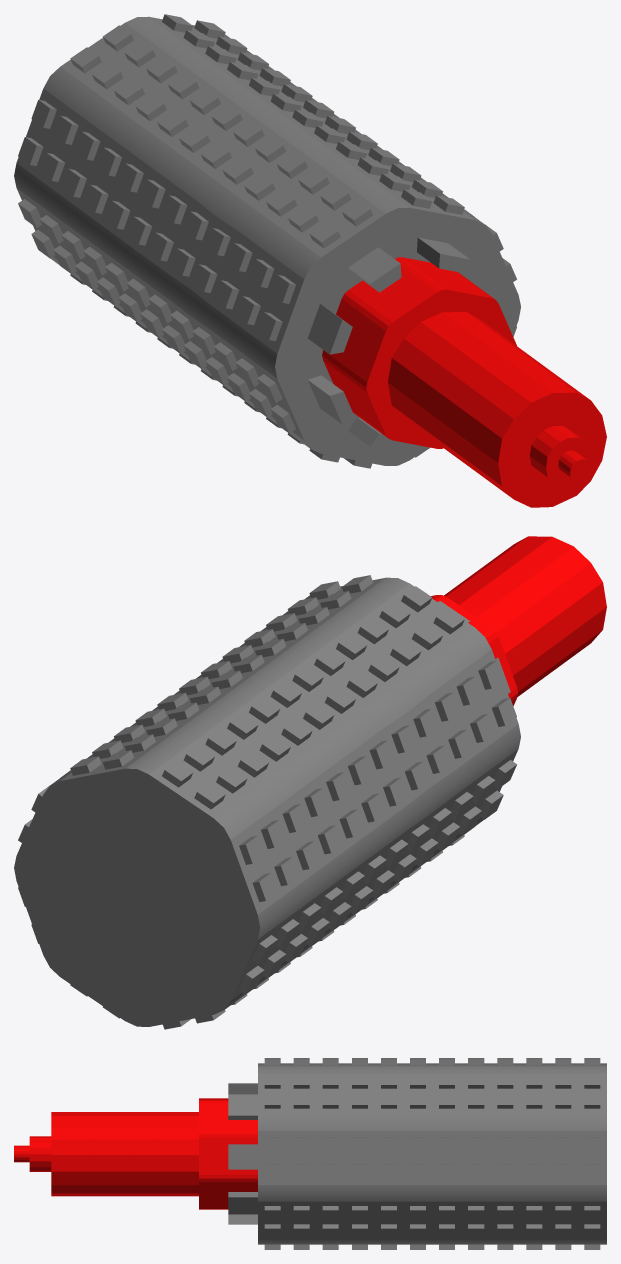
File: BatteryModelDiffMat.fbx
The picture shows the model from 3 angles, top to bottom: view 1: azimuth 30°, elevation 25°; view 2: azimuth 150°, elevation 25°; view 3: azimuth 270°, elevation 25°; orthographic projection. The views are drawn at different scales.
Parts seen in each view (by area): view 1: FlashLight_Battery; view 2: FlashLight_Battery; view 3: FlashLight_Battery.
Boxes of the visible parts, box(x1,y1,x2,y2) form: FlashLight_Battery: box(14, 14, 606, 507); FlashLight_Battery: box(14, 536, 606, 1029); FlashLight_Battery: box(14, 1058, 606, 1249).
Bounding box in the file's own units: 2.03 × 2.03 × 6.28.
